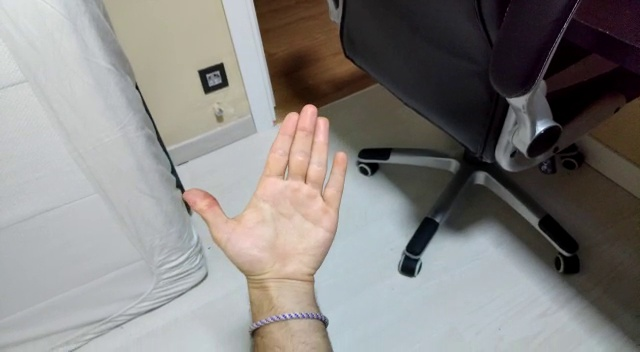Palm: (181, 104, 347, 282)
